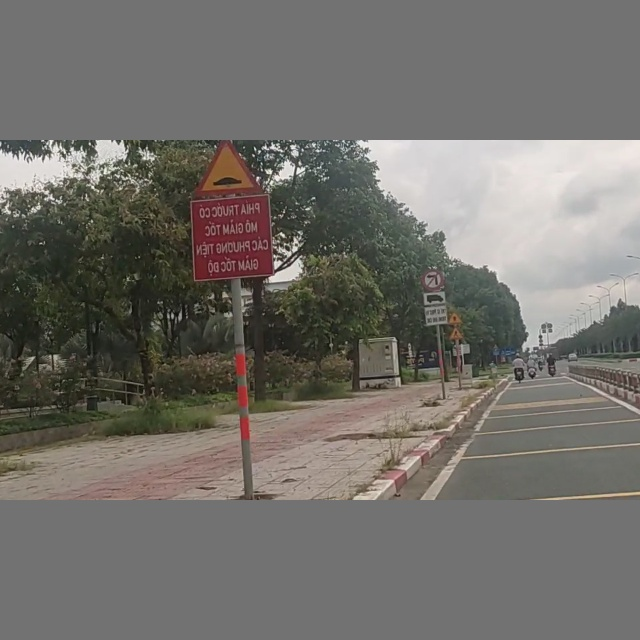P.123b: (421, 269, 445, 290)
S.505a*Xe tai: (423, 291, 448, 325)
W.207: (448, 312, 462, 324)
W.221b: (193, 141, 262, 195)
W.224: (449, 327, 464, 339)
